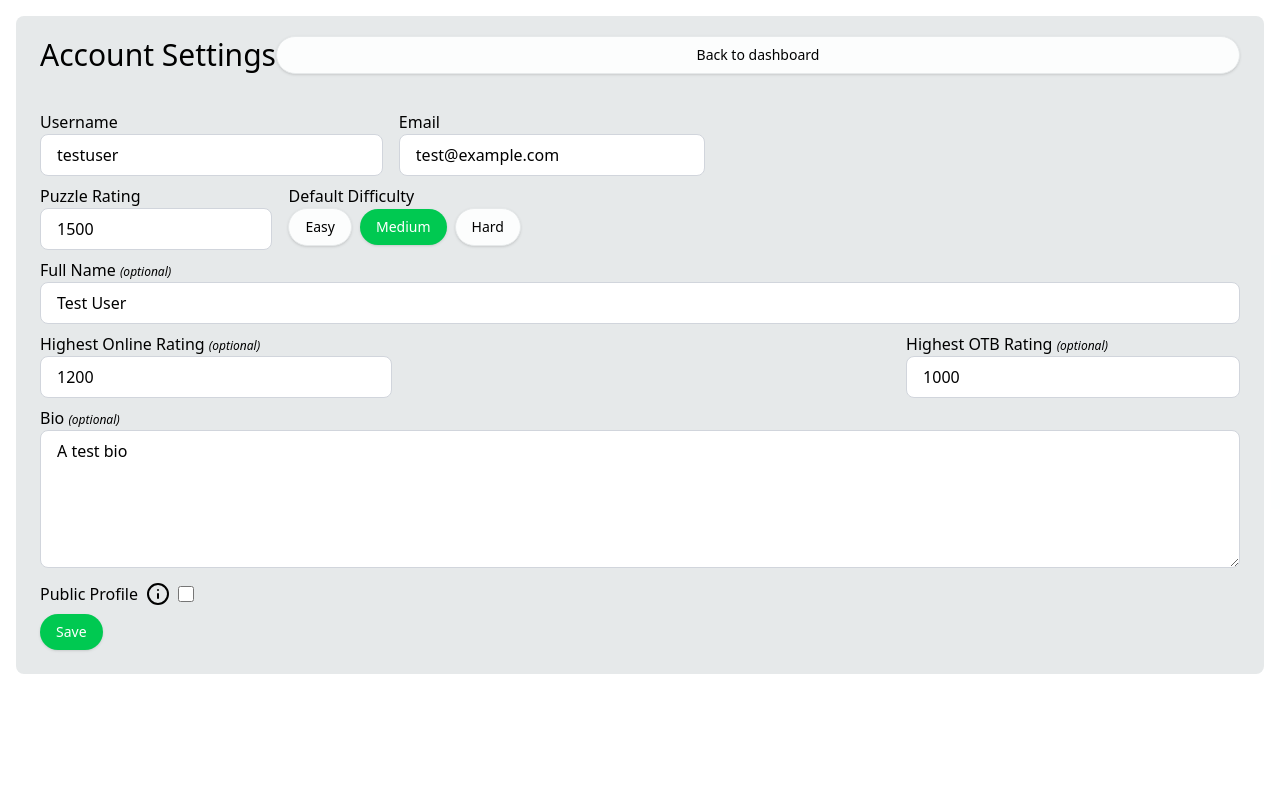
Test: Account Editing › validates that puzzle ratings are within acceptable bounds
The image size is (1280, 800).
Replace the text in the number field labelled "Puzzle Rating" with "100" at (156, 229), box [40,208,272,250]
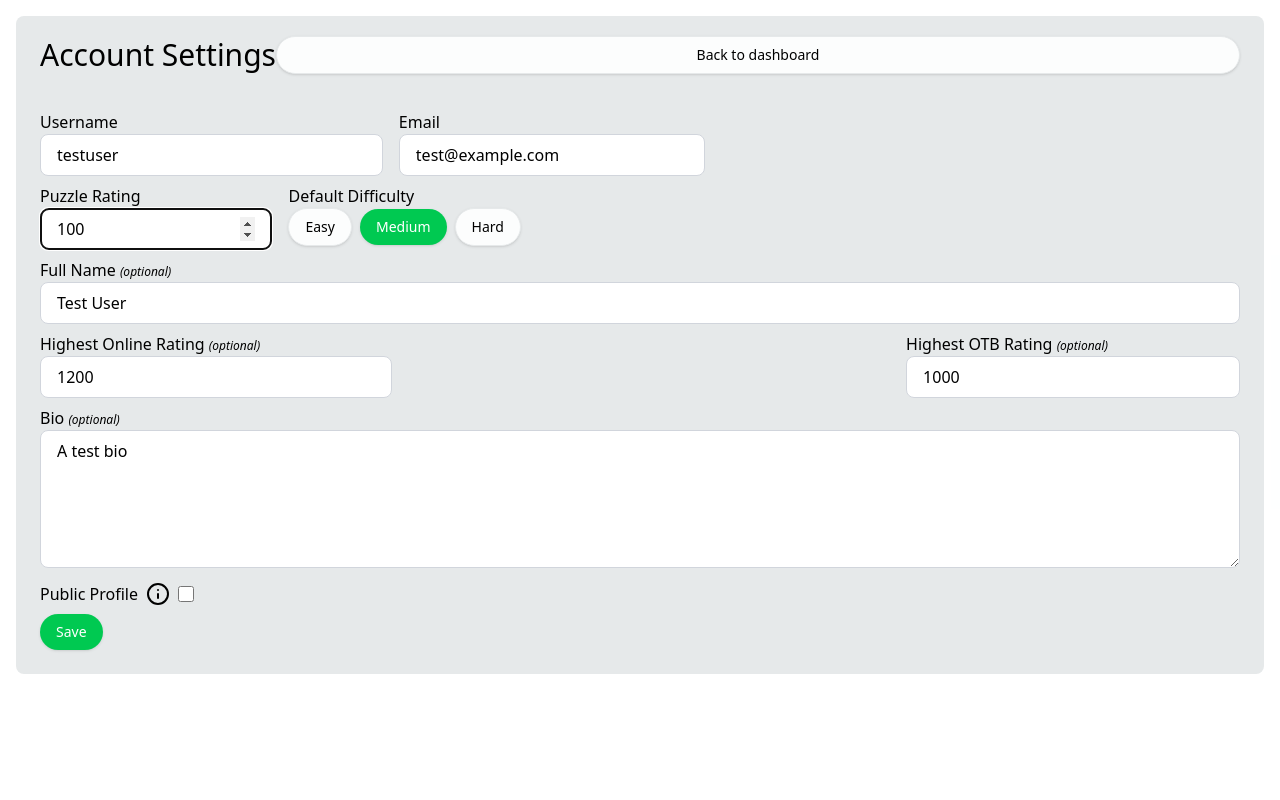
Submit the form with test id "account-form"
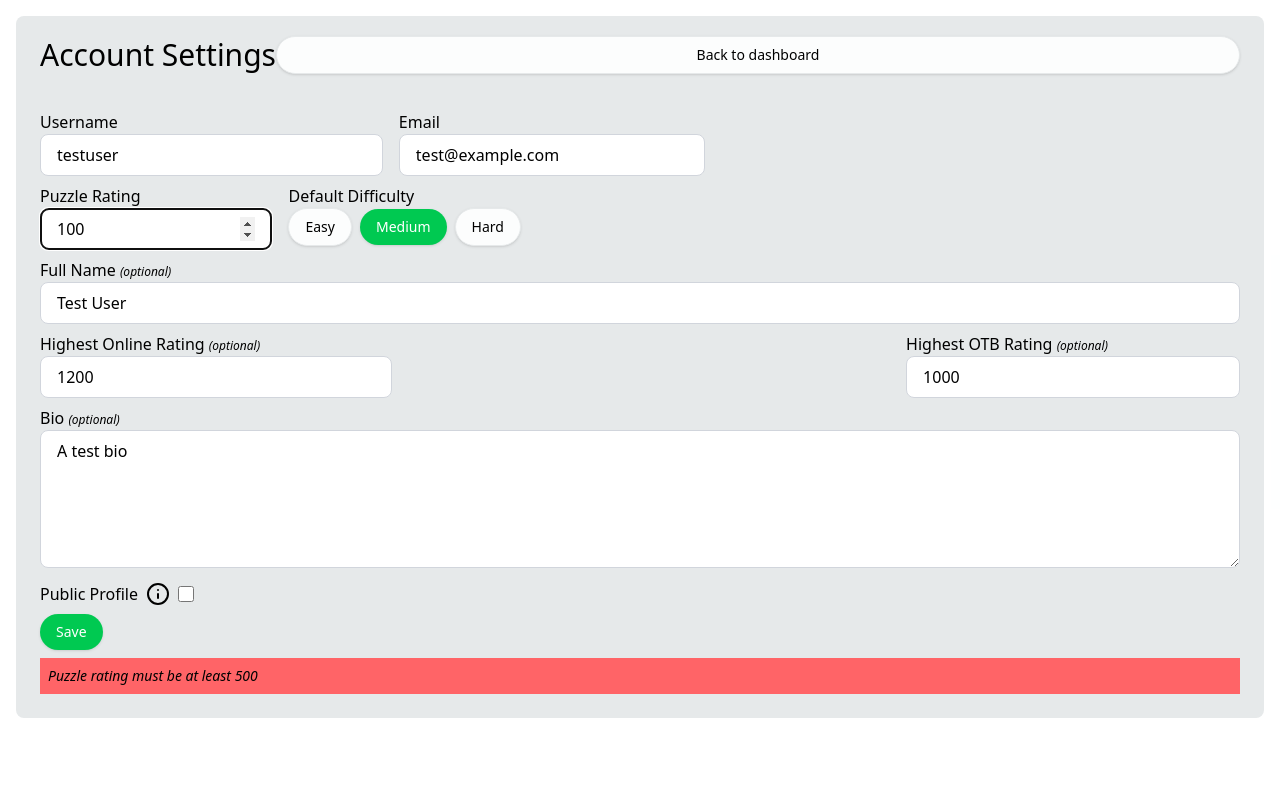
expect the text "Puzzle rating must be at least 500" is shown: met, box [40,658,1240,694]
